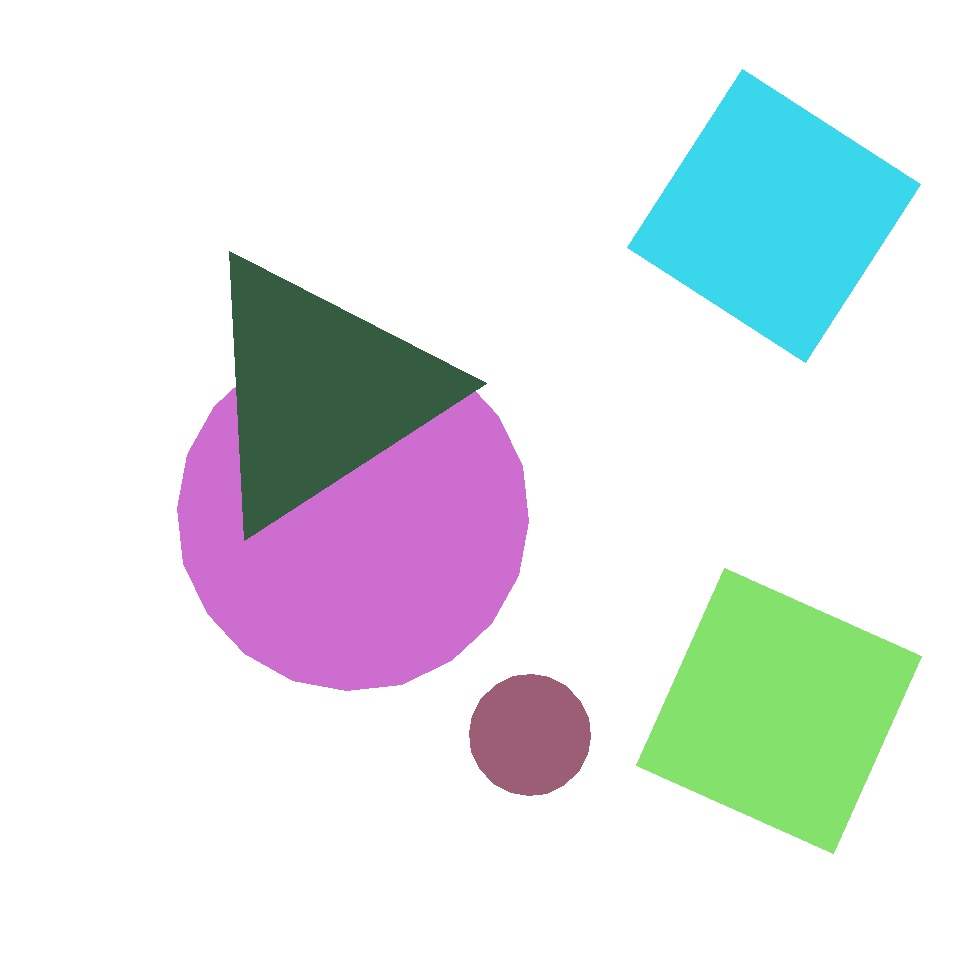circle: (192, 248, 448, 536), (174, 51, 356, 246), (254, 785, 410, 943)
square: (628, 70, 920, 362), (636, 568, 922, 854)
triangle: (178, 340, 528, 690), (470, 674, 590, 796), (616, 362, 722, 468)
